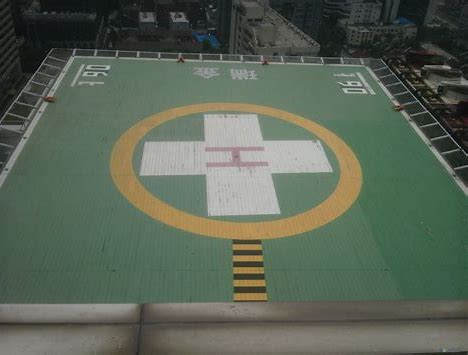H: (205, 146, 270, 167)
